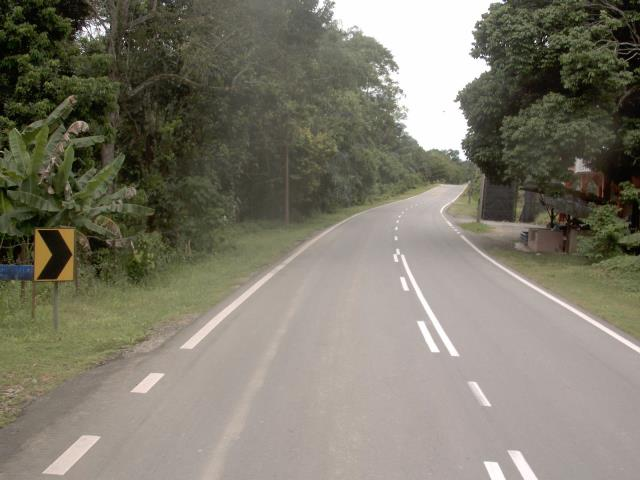traffic_sign: (26, 219, 84, 289)
